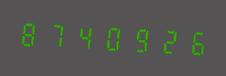eight: (17, 15, 43, 52)
four: (71, 17, 97, 55)
nine: (125, 20, 151, 58)
seven: (44, 16, 70, 53)
six: (179, 23, 205, 60)
two: (152, 22, 178, 59)
zero: (98, 19, 124, 56)
